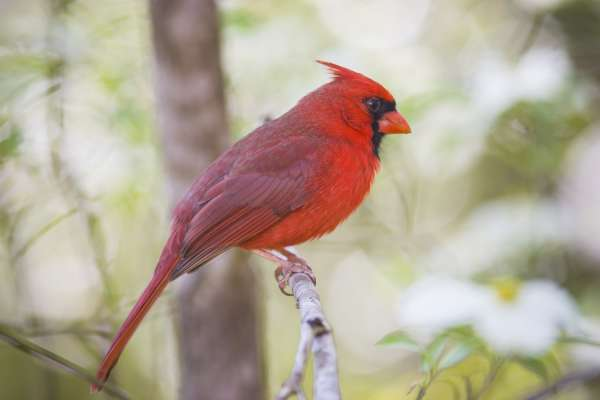bird: (137, 78, 402, 298)
